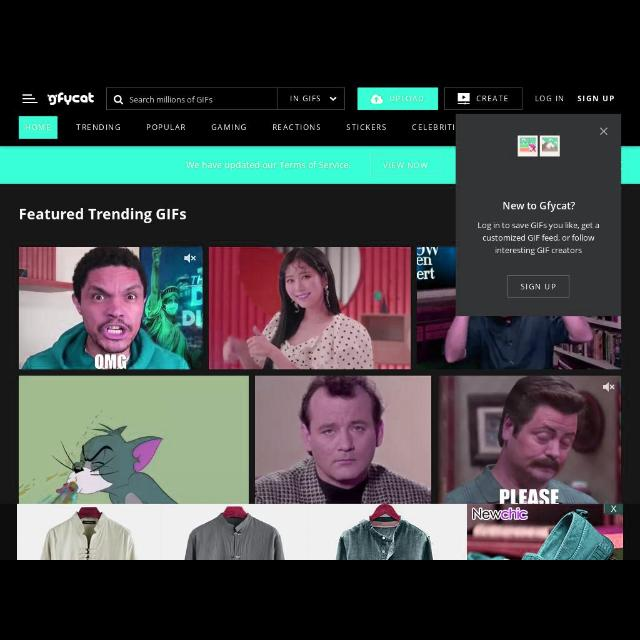icon: (22, 94, 38, 105), (458, 94, 470, 105), (370, 94, 382, 104), (114, 95, 125, 105), (600, 127, 608, 135), (329, 96, 336, 100)
image: (19, 376, 624, 560), (208, 248, 412, 370), (19, 246, 207, 370), (518, 136, 560, 156), (47, 91, 95, 105)
input: (106, 87, 278, 109)
multitab: (25, 124, 455, 130)
spinner: (290, 95, 336, 102)
text: (476, 222, 600, 256), (20, 208, 186, 224), (186, 161, 352, 171), (502, 201, 576, 213), (129, 96, 213, 104), (273, 124, 321, 130), (520, 283, 556, 291), (382, 162, 428, 168), (77, 124, 121, 130), (412, 124, 454, 130), (346, 124, 386, 130), (147, 124, 186, 130), (578, 96, 614, 102), (390, 96, 424, 102), (212, 124, 246, 130), (476, 96, 508, 102), (290, 95, 320, 101), (536, 95, 564, 101), (25, 124, 51, 130)
textbutton: (358, 88, 438, 110), (444, 88, 522, 110), (370, 154, 442, 176), (508, 274, 570, 298)
